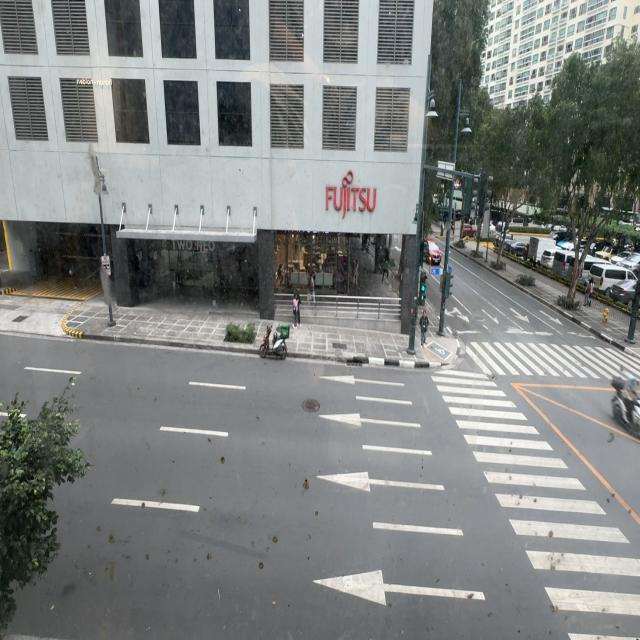pedestrain: (292, 290, 301, 328), (584, 279, 592, 307), (382, 257, 389, 283)
waiting: (419, 310, 429, 348)
